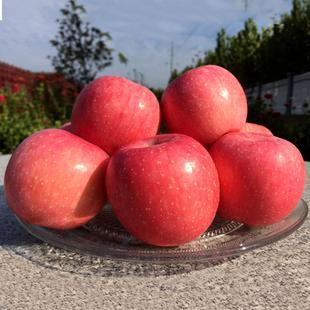apple: (110, 138, 222, 250), (3, 132, 109, 238), (207, 129, 307, 227), (159, 64, 247, 147), (64, 75, 158, 152)
